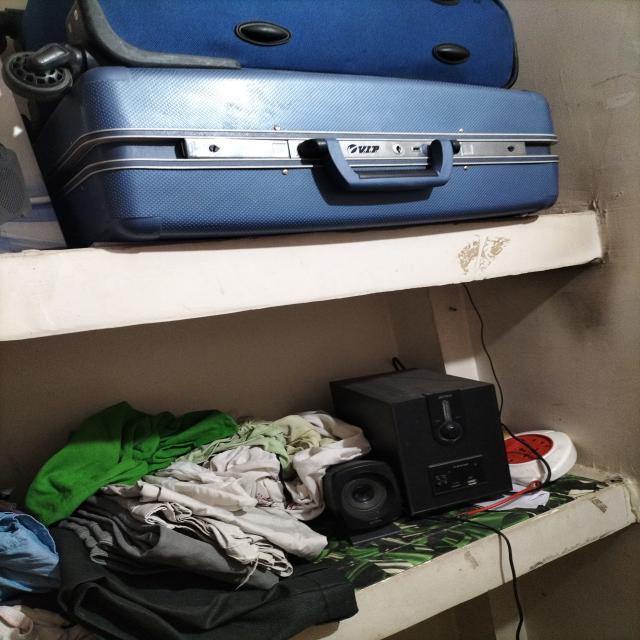suitcaserotation: (26, 61, 565, 249), (0, 0, 523, 107)
